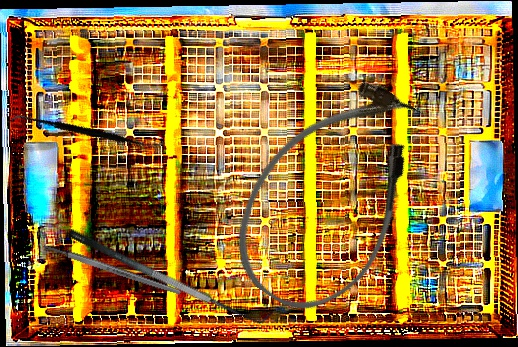Cannula: (206, 57, 458, 334)
Scalpel Handle: (42, 242, 182, 297)
Spatula Surgical: (67, 212, 274, 336), (6, 69, 166, 196)
